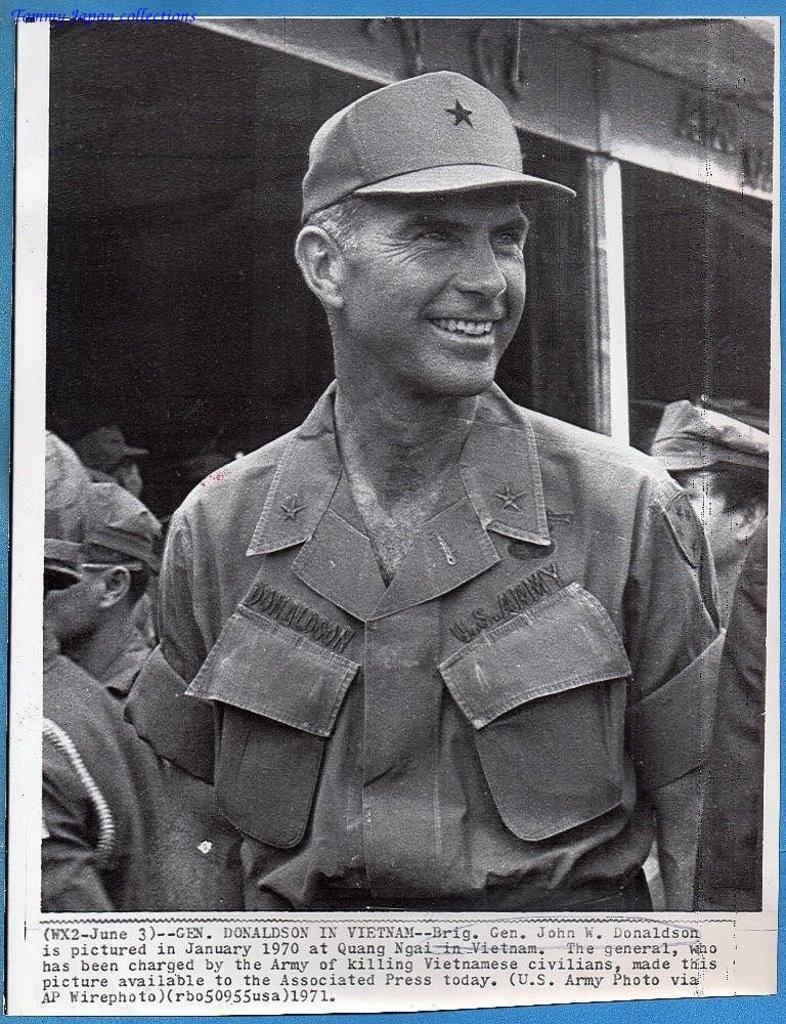Hat: (297, 68, 576, 226), (642, 399, 771, 474), (84, 482, 162, 576), (66, 424, 144, 476)
